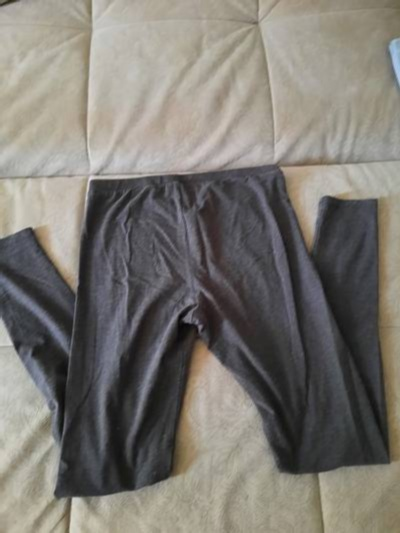Pants: (3, 140, 400, 498)
